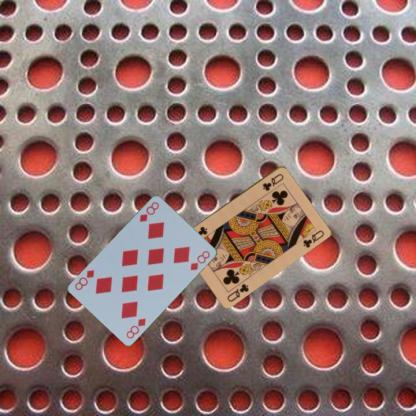8d: (137, 199, 160, 223), (124, 315, 146, 340)
Qc: (224, 281, 250, 303), (260, 170, 285, 192)
